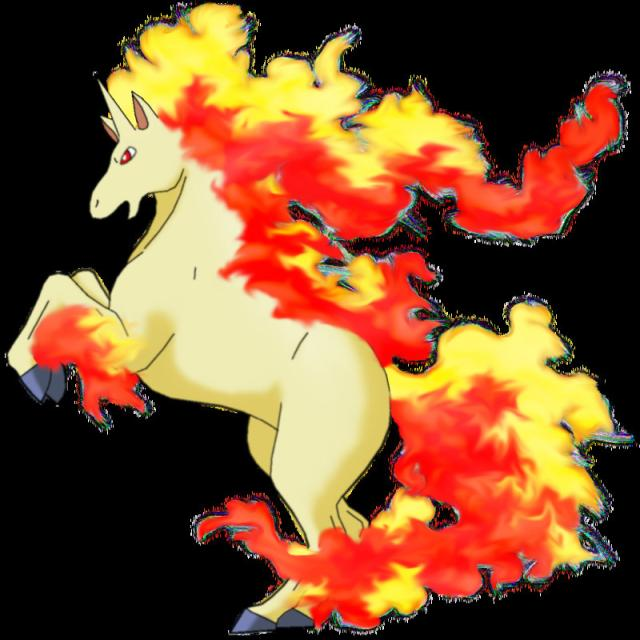Rapidash: (54, 0, 473, 624)
